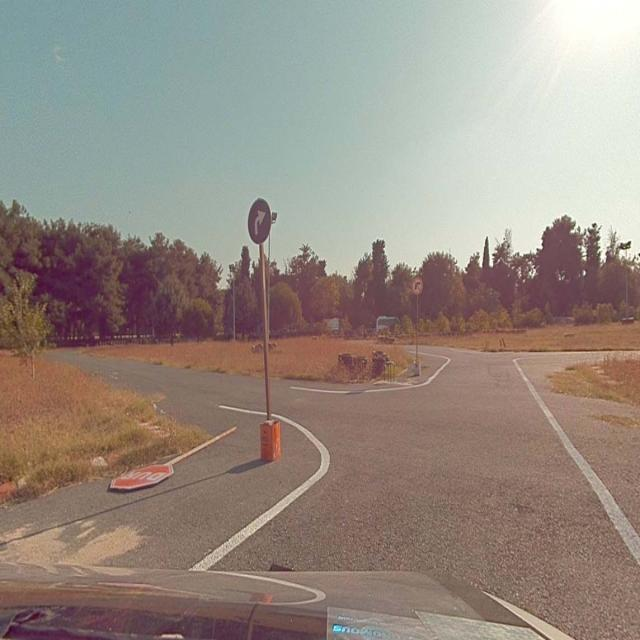sag: (248, 200, 271, 243)
sagadonulmez: (412, 276, 423, 294)
